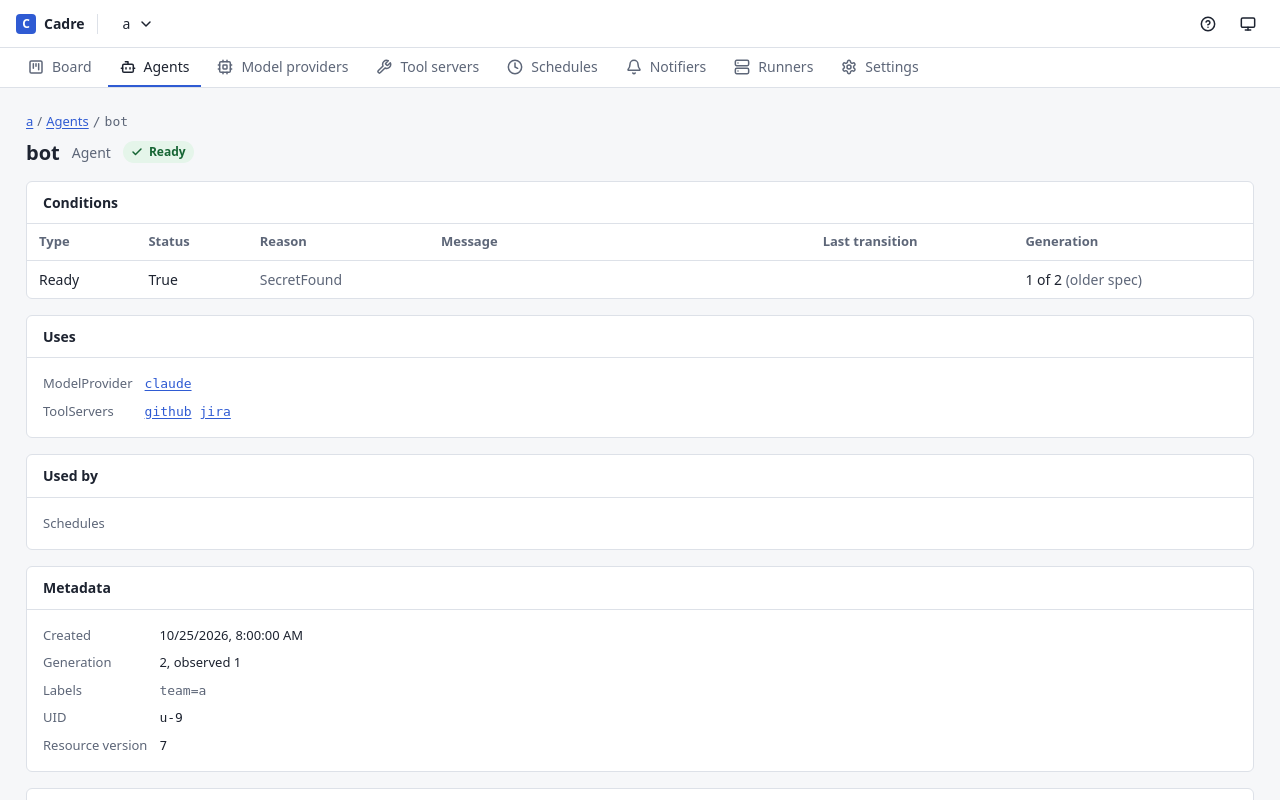
Scenario: ToolServerDetail › is opened from an Agent's toolRefs
Click the link "github" at (168, 411), box [145, 402, 192, 421]
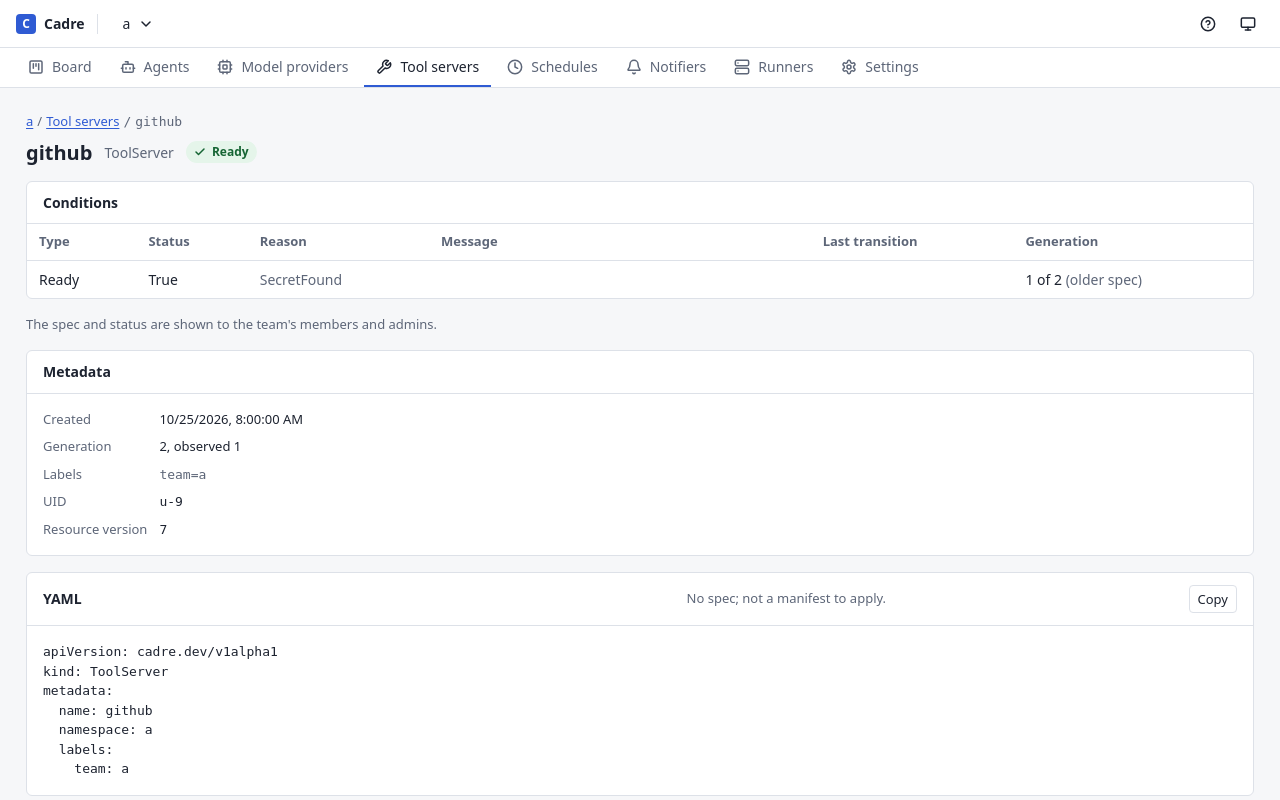
Check: the heading "github" is shown, box [26, 140, 92, 164]
Check: the text "ToolServer" is shown, box [104, 142, 174, 162]
